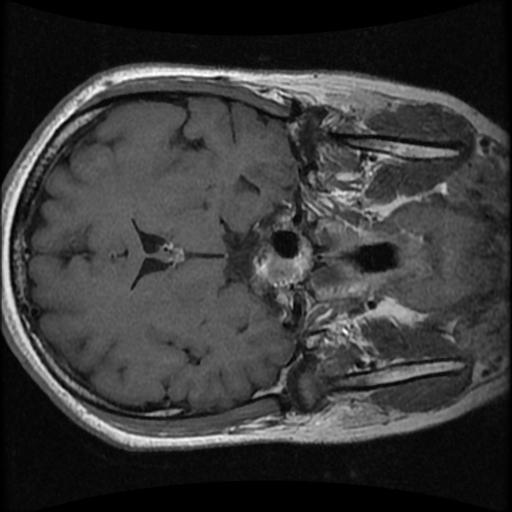pituitary tumour: (249, 206, 311, 287)
